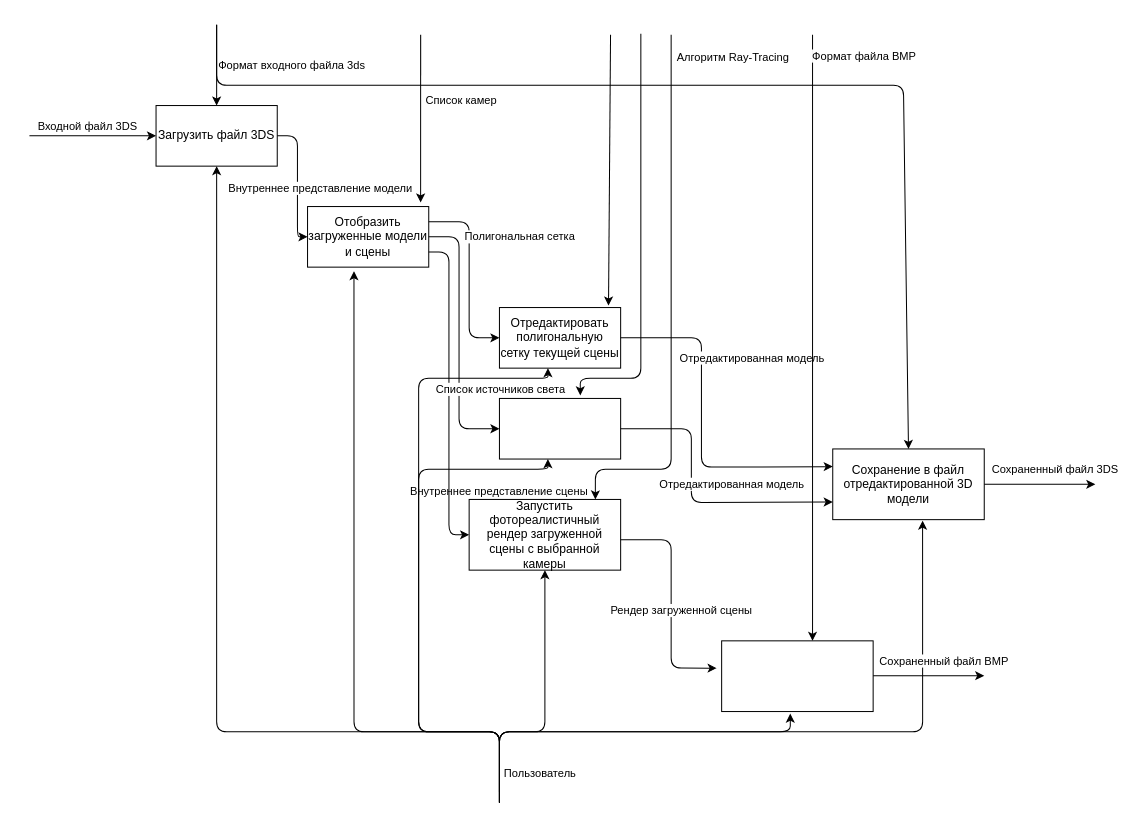
Some shapes in this 1135 by 828 pixel diagram are drawn without their labels. The shapes that lost their labels are listed below. From the top down, each one's centre as x and y in pixels, then its label:
At point (559, 428): "Отредактировать источники света в текущей сцене".
At point (797, 676): "Сохранение в файл фотореалистичного рендера".
